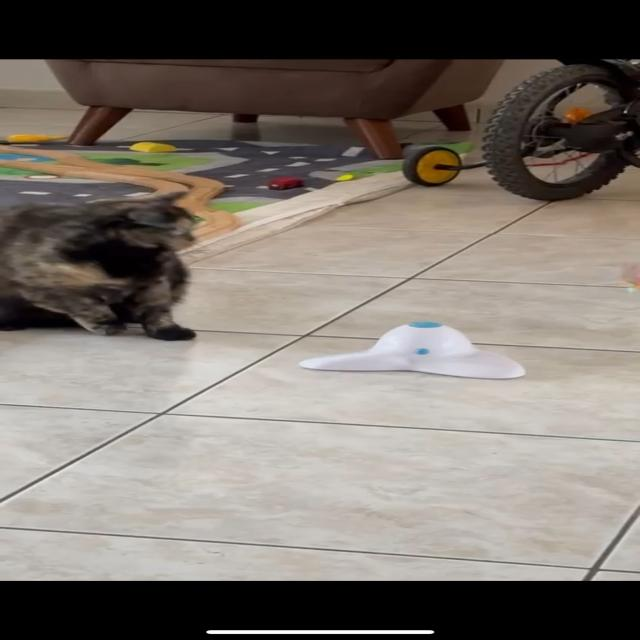authorized: (0, 190, 199, 341)
